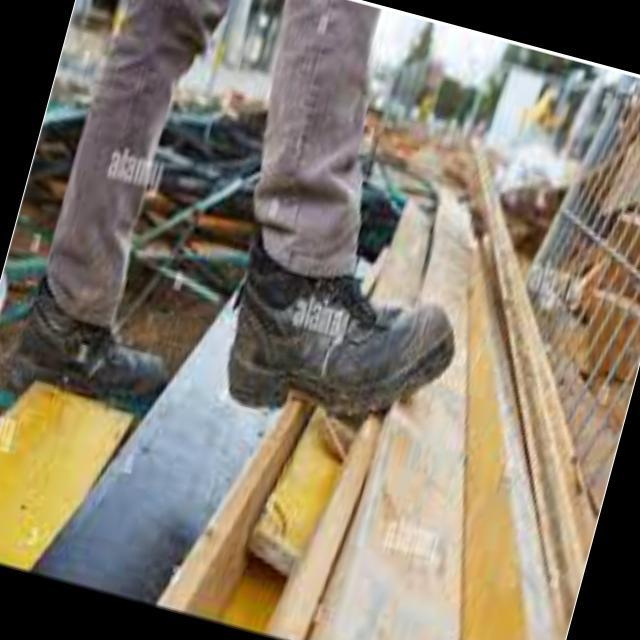shoes: (0, 136, 487, 491)
